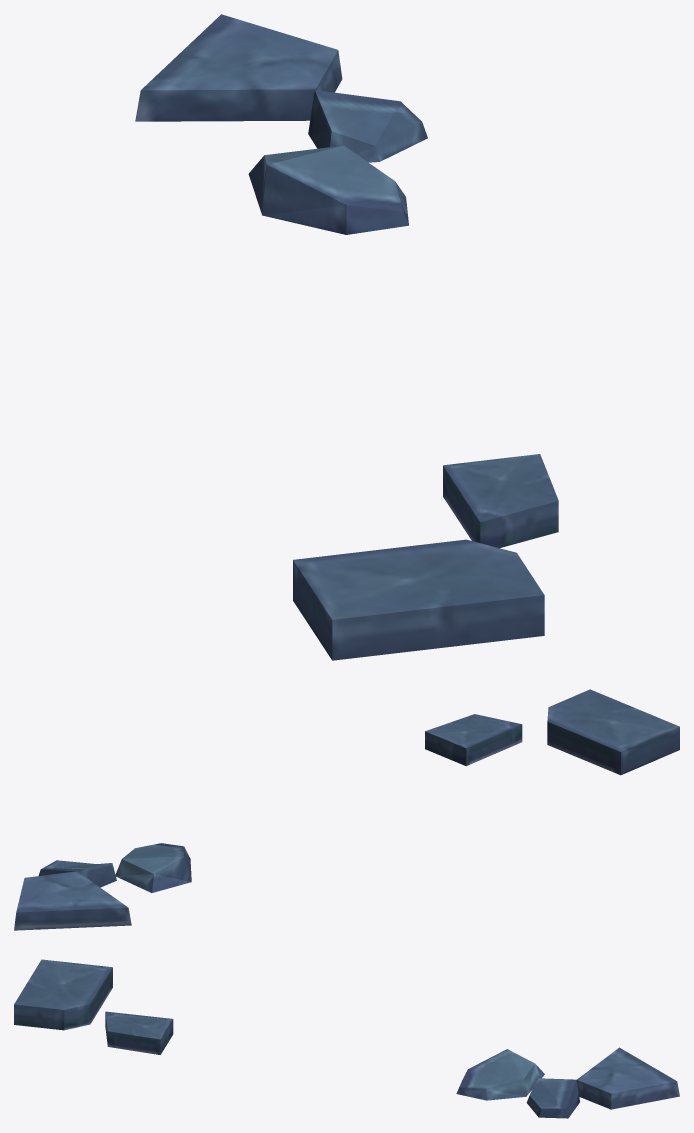
Rendered from Area11_19.fbx.
3 renders of one model, top to bottom at view 1: azimuth 30°, elevation 25°; view 2: azimuth 150°, elevation 25°; view 3: azimuth 270°, elevation 25°, orthographic. The views are drawn at different scales.
Visible parts, largest first — view 1: Area11_19; view 2: Area11_19; view 3: Area11_19.
Part boxes in pixels (bbox=[...]): Area11_19: bbox=[135, 14, 558, 660]; Area11_19: bbox=[14, 689, 679, 930]; Area11_19: bbox=[14, 959, 679, 1118].
Bounding box in the file's own units: 625 × 57.6 × 1208.
Materials: 1 (1 with a texture image).
